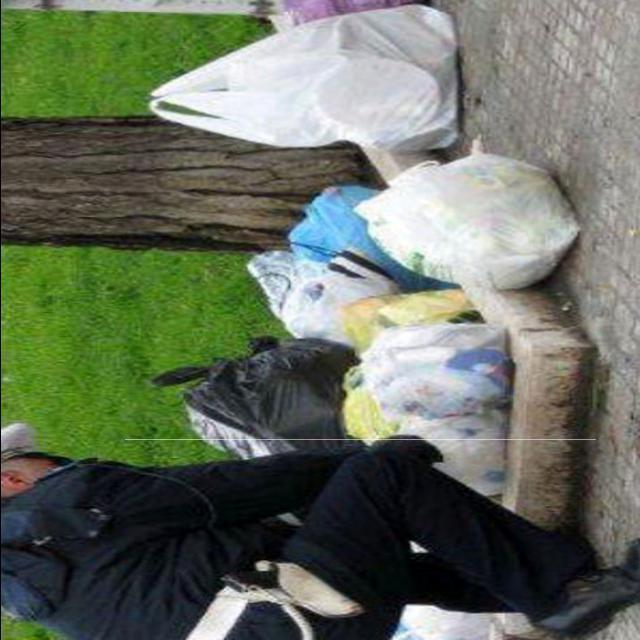Trashbag: (157, 325, 366, 470)
